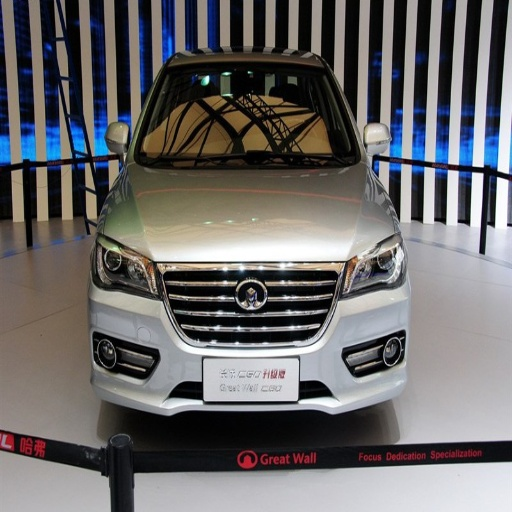front_bumper: (89, 259, 412, 415)
front_right_light: (93, 229, 157, 296)
hood: (103, 160, 395, 261)
